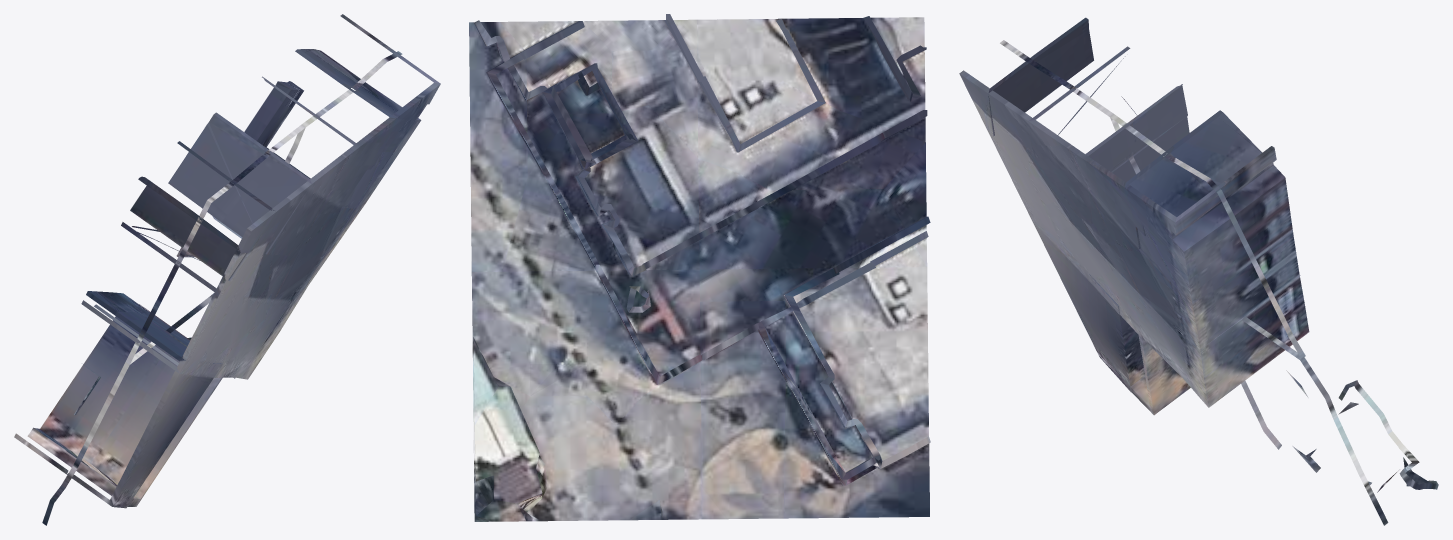
3 views of the same model, side by side, from view 1: azimuth 30°, elevation 25°; view 2: azimuth 150°, elevation 25°; view 3: azimuth 270°, elevation 25° (orthographic). The views are drawn at different scales.
Bounding box in the file's own units: 41.5 × 37.58 × 39.83.
Materials: 2 (2 with a texture image).
